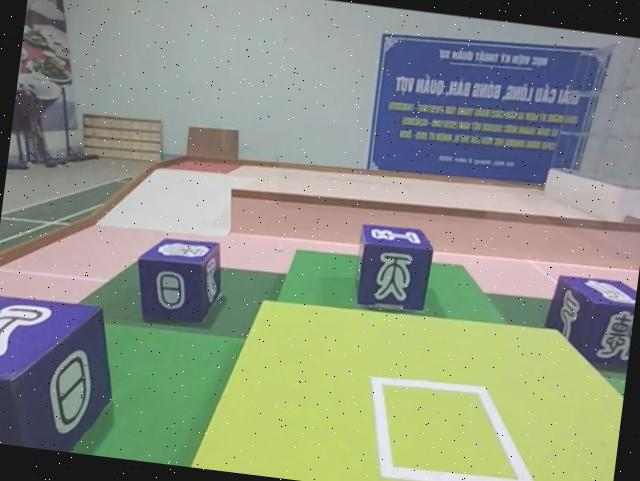R2 Fake Blue: (0, 289, 122, 456), (543, 271, 637, 372), (130, 232, 227, 329), (351, 223, 437, 316)
